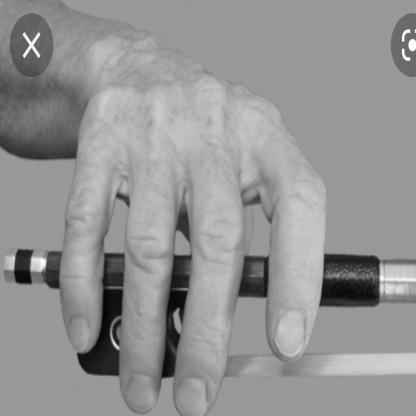good: (65, 61, 334, 415)
